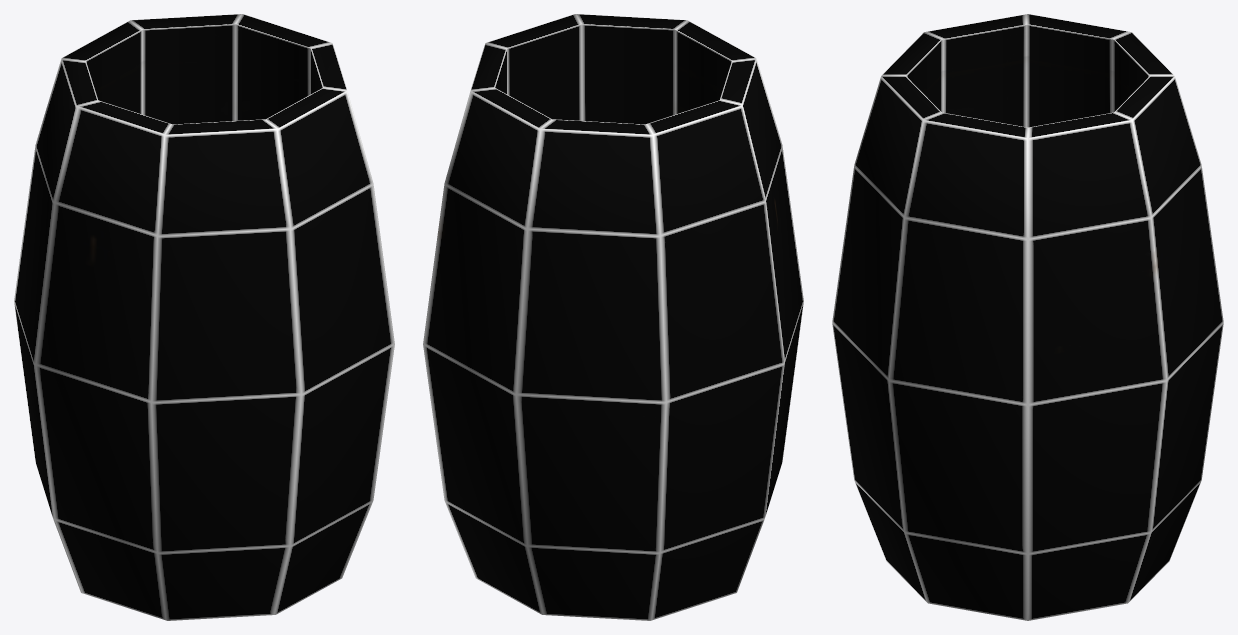
The model's file is Barrel.fbx.
3 renders of one model, left to right at view 1: azimuth 30°, elevation 25°; view 2: azimuth 150°, elevation 25°; view 3: azimuth 270°, elevation 25°, orthographic.
Visible parts, largest first — view 1: Cylinder; view 2: Cylinder; view 3: Cylinder.
Part boxes in pixels (box(x1,y1,x2,y2)): Cylinder: box(14, 14, 394, 620); Cylinder: box(423, 14, 803, 620); Cylinder: box(832, 14, 1223, 620).
Size of the model in its own units: 149 by 203 by 149.
Materials: 1 (1 with a texture image).
